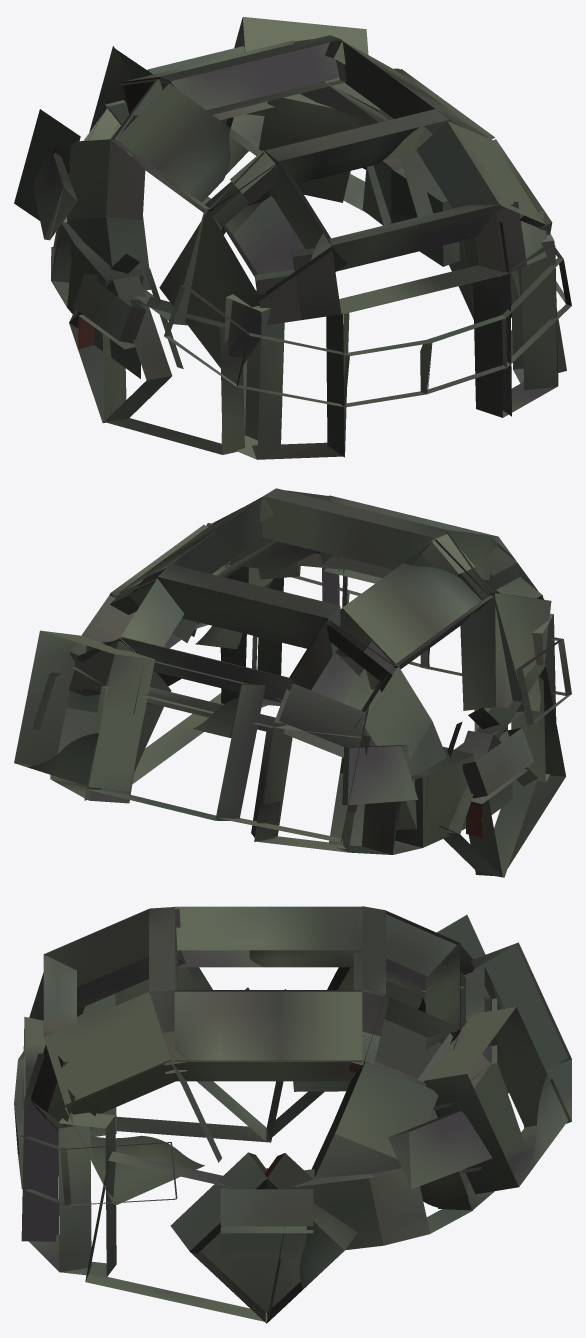
Rendered from ratnik_mobilized_h.obj.
3 renders of one model, top to bottom at view 1: azimuth 30°, elevation 25°; view 2: azimuth 150°, elevation 25°; view 3: azimuth 270°, elevation 25°, orthographic.
Visible parts, largest first — view 1: cuboid; view 2: cuboid; view 3: cuboid.
Boxes of the visible parts, x1,y1,x2,y2 form: cuboid: (14, 17, 571, 459); cuboid: (14, 488, 571, 877); cuboid: (14, 906, 571, 1323).
Bounding box in the file's own units: 0.8065 × 0.521 × 0.9393.
